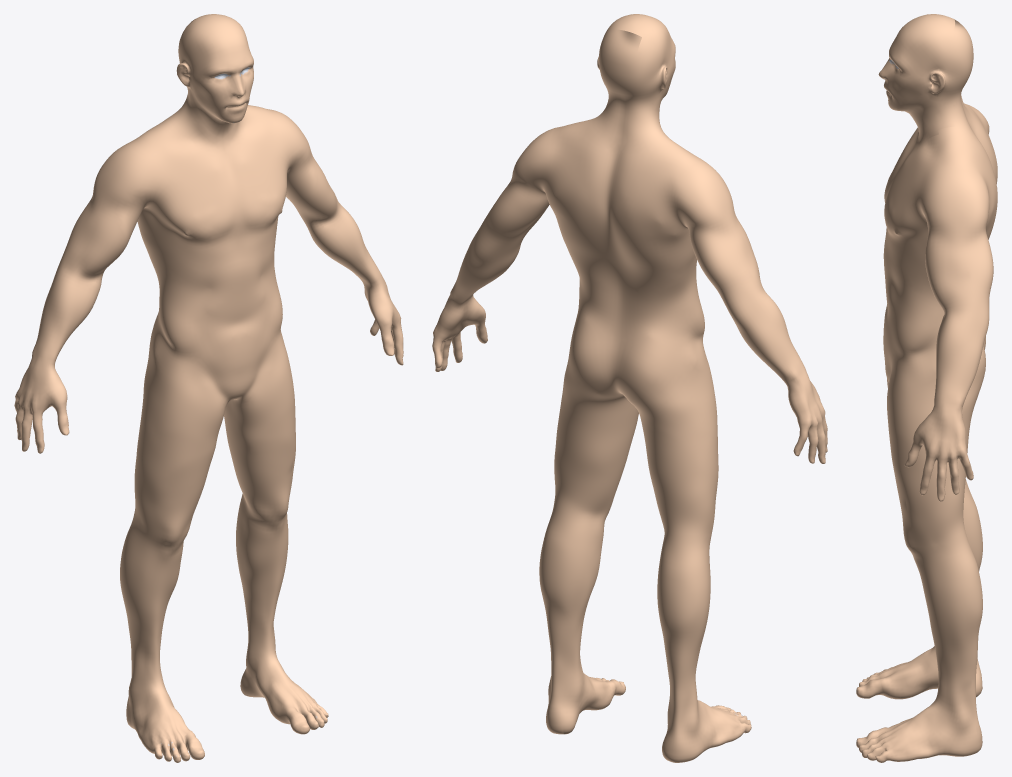
Rendered from player.gltf.
The picture shows the model from 3 angles, left to right: view 1: azimuth 30°, elevation 25°; view 2: azimuth 150°, elevation 25°; view 3: azimuth 270°, elevation 25°; orthographic projection.
Visible parts, largest first — view 1: ModelPlayer; view 2: ModelPlayer; view 3: ModelPlayer.
Boxes of the visible parts, x1,y1,x2,y2 form: ModelPlayer: (14,14,403,762); ModelPlayer: (432,14,827,762); ModelPlayer: (856,14,997,762).
Bounding box in the file's own units: 4.18 × 7.41 × 1.35.
Materials: 1 (1 with a texture image).
